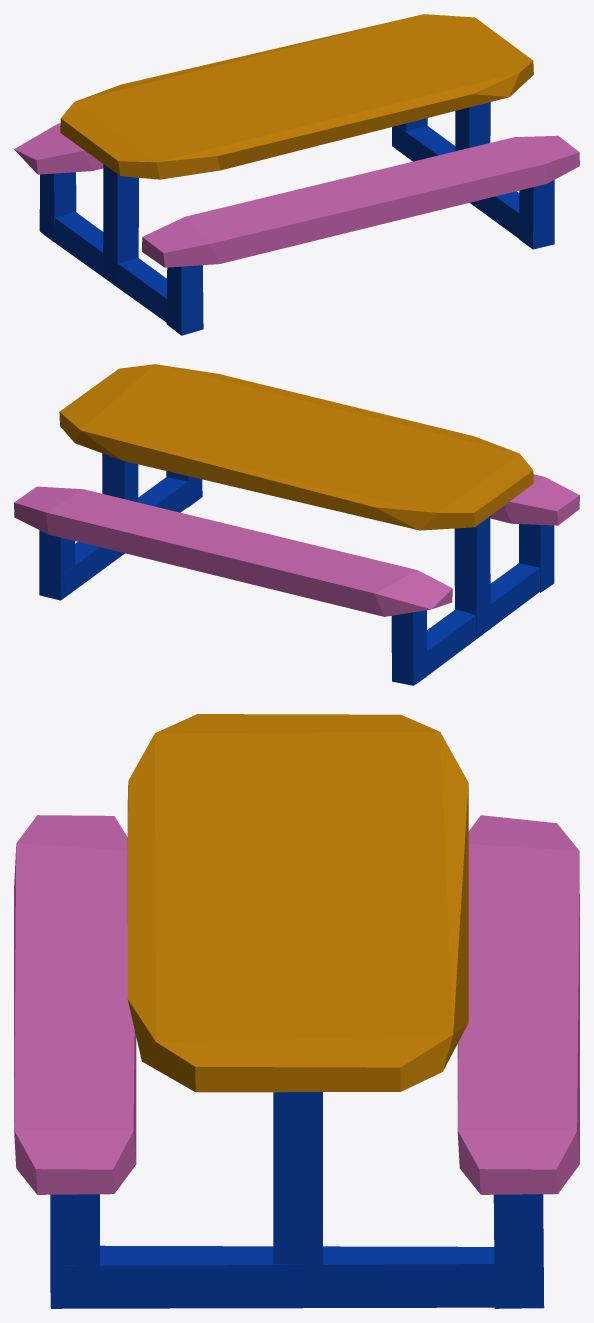
Rendered from Child Bench 1.fbx.
3 views of the same model, one above another, from view 1: azimuth 30°, elevation 25°; view 2: azimuth 150°, elevation 25°; view 3: azimuth 270°, elevation 25° (orthographic). The views are drawn at different scales.
Parts seen in each view (by area): view 1: Child_Bench_01; view 2: Child_Bench_01; view 3: Child_Bench_01.
Part boxes in pixels (bbox=[...]): Child_Bench_01: bbox=[14, 14, 579, 335]; Child_Bench_01: bbox=[14, 364, 579, 685]; Child_Bench_01: bbox=[14, 714, 579, 1308].
Bounding box in the file's own units: 124 × 42.83 × 83.27.
